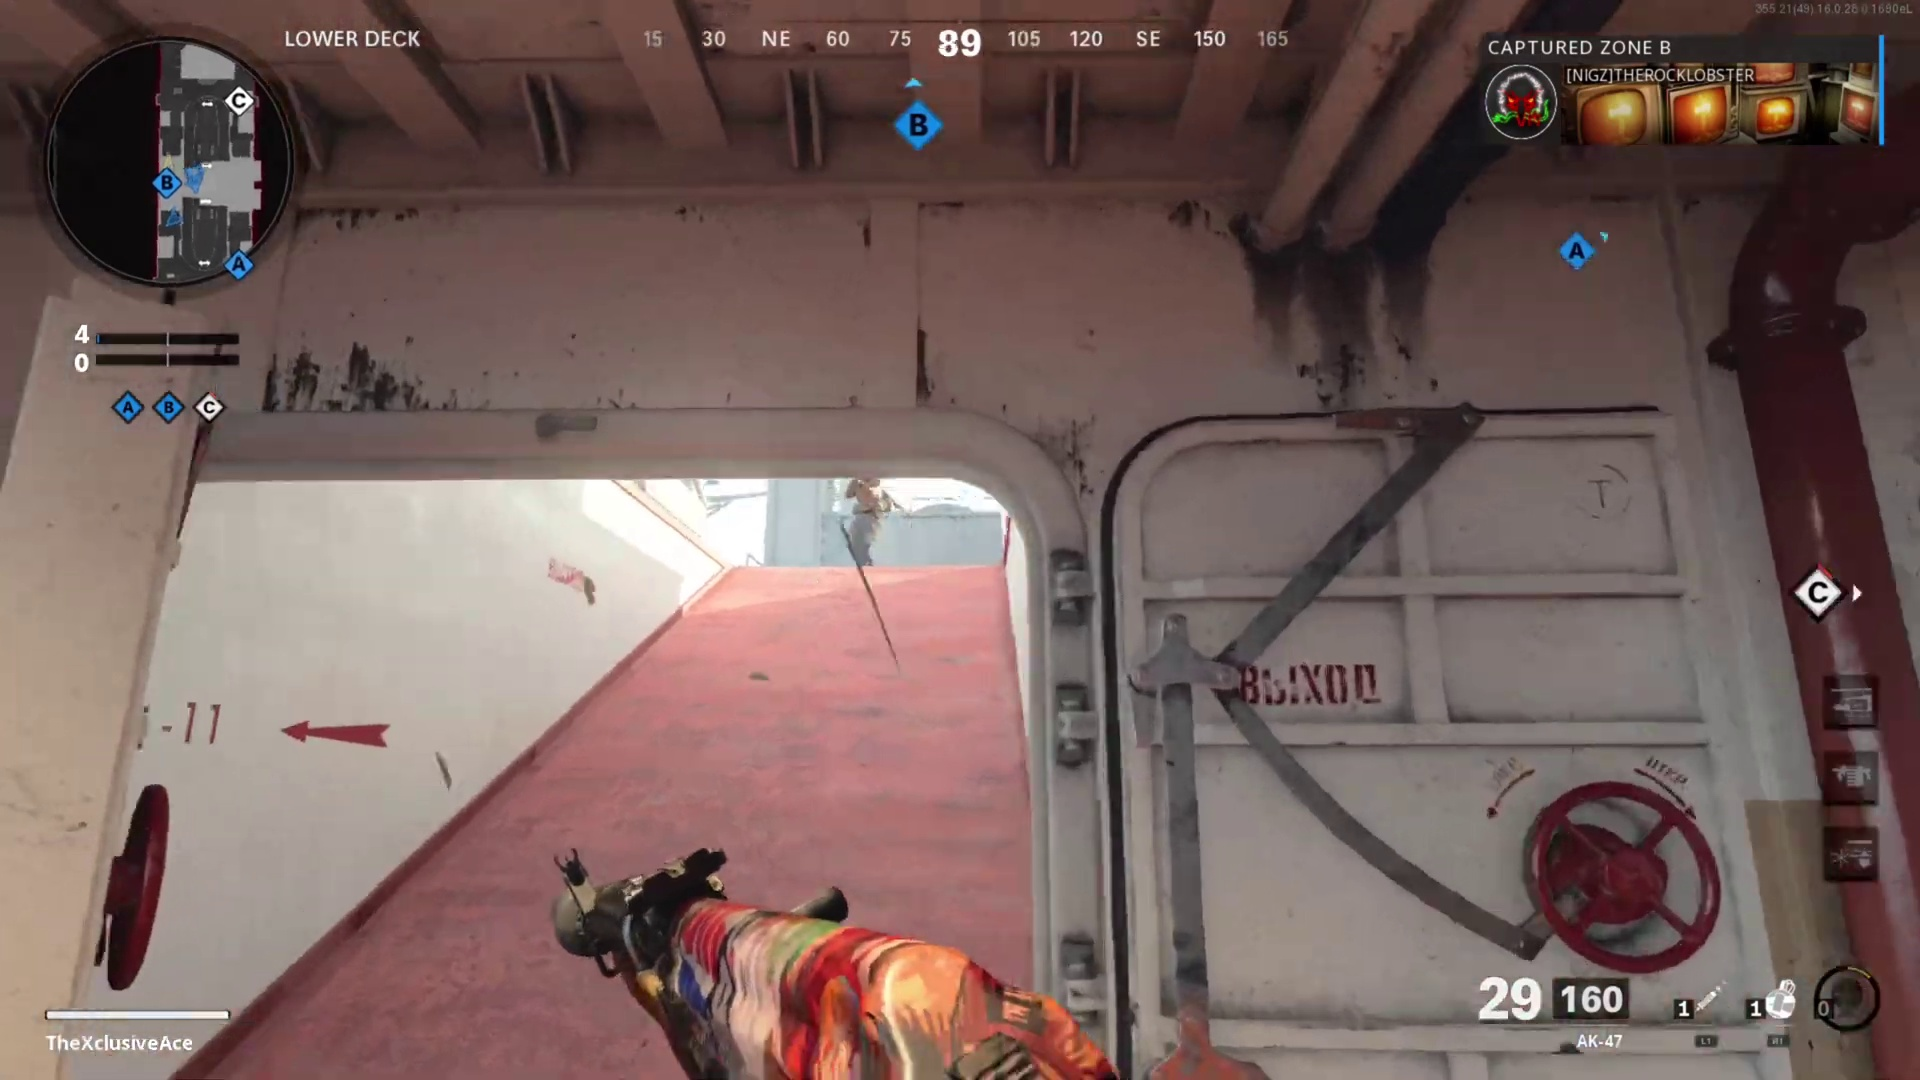person: (835, 477, 898, 565)
